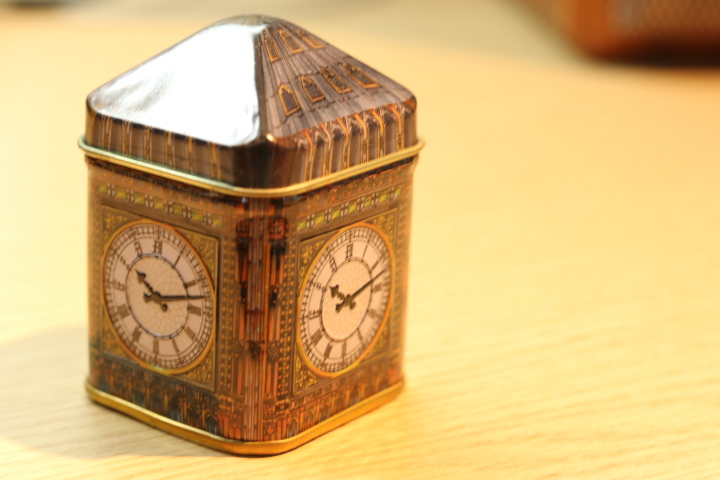Big Ben: (68, 7, 433, 473)
